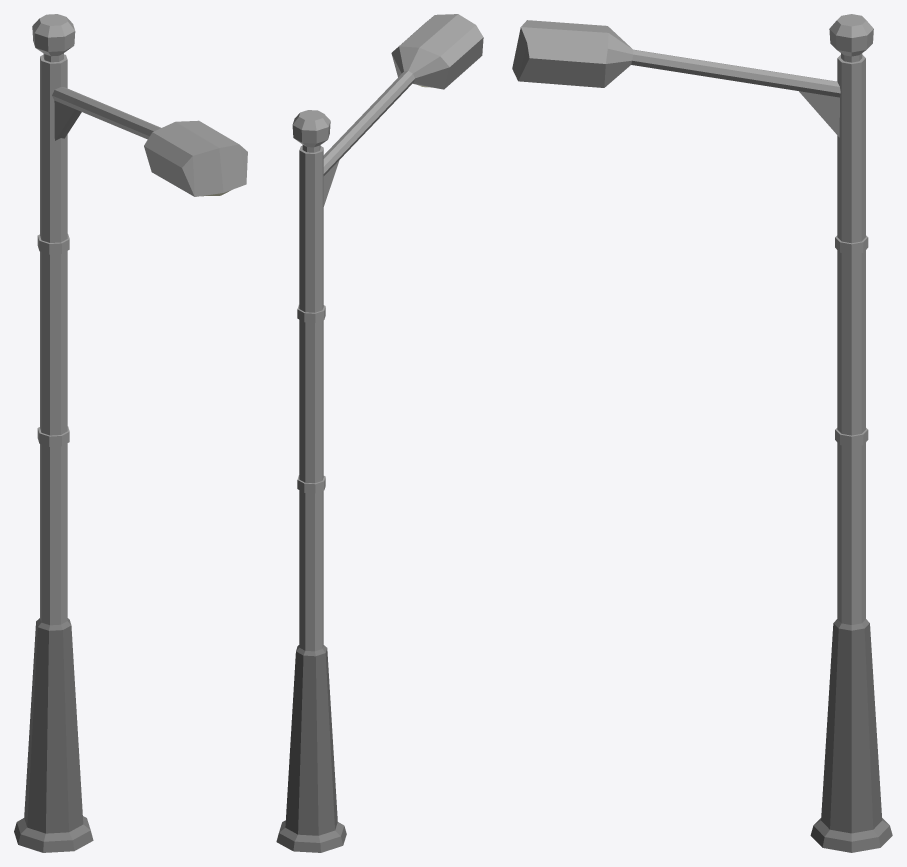
The model's file is Ext_StreetLamp03.fbx.
3 renders of one model, left to right at view 1: azimuth 30°, elevation 25°; view 2: azimuth 150°, elevation 25°; view 3: azimuth 270°, elevation 25°, orthographic. The views are drawn at different scales.
Visible parts, largest first — view 1: Ext_StreetLamp03; view 2: Ext_StreetLamp03; view 3: Ext_StreetLamp03.
Part boxes in pixels (x1,y1,x2,y2): Ext_StreetLamp03: (14,14,247,852); Ext_StreetLamp03: (276,14,483,852); Ext_StreetLamp03: (512,14,892,852).
Size of what is drawn, in the model's own units: 41.19 by 191 by 450.
